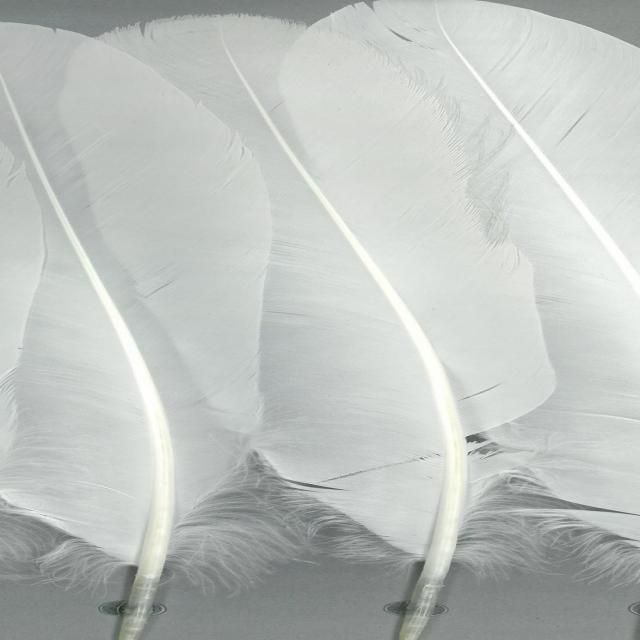feather: (64, 14, 564, 640), (284, 0, 640, 591), (0, 21, 280, 640)
